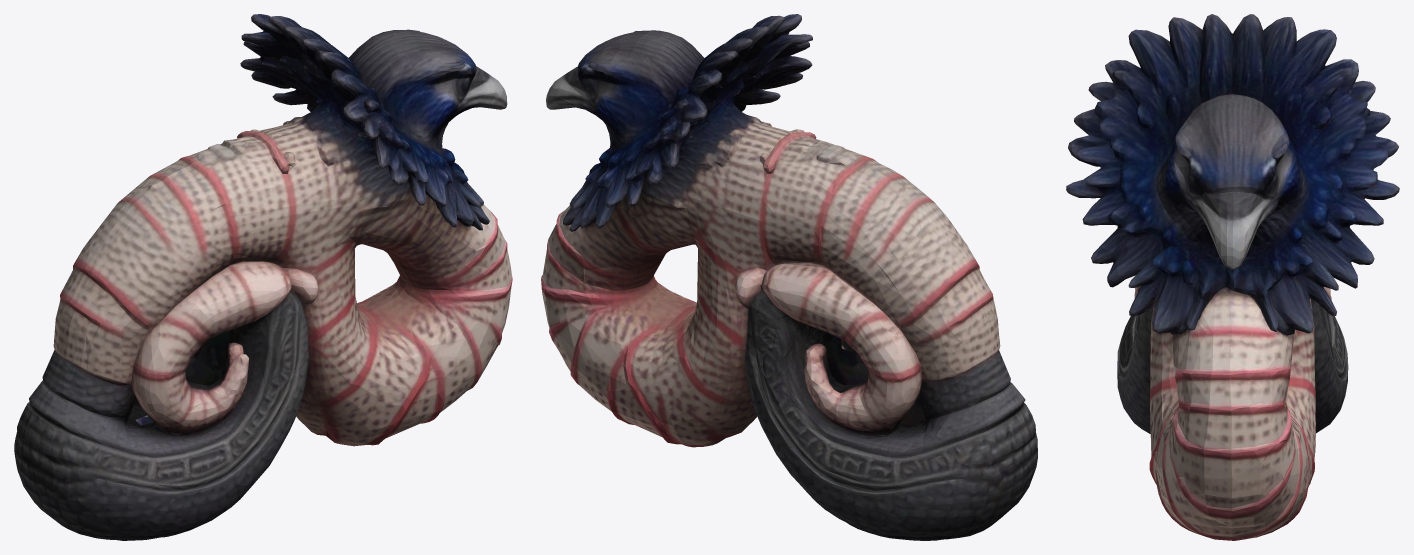
File: duskcoil__whisperRaven.glb
3 renders of one model, left to right at view 1: azimuth 30°, elevation 25°; view 2: azimuth 150°, elevation 25°; view 3: azimuth 270°, elevation 25°, orthographic. The views are drawn at different scales.
Parts seen in each view (by area): view 1: world; view 2: world; view 3: world.
Boxes of the visible parts, x1=… form: world: x1=14, y1=14, x2=512, y2=540; world: x1=541, y1=14, x2=1037, y2=540; world: x1=1066, y1=14, x2=1399, y2=540.
Size of the model in its own units: 0.9989 by 0.8891 by 0.5369.
Materials: 1 (1 with a texture image).
